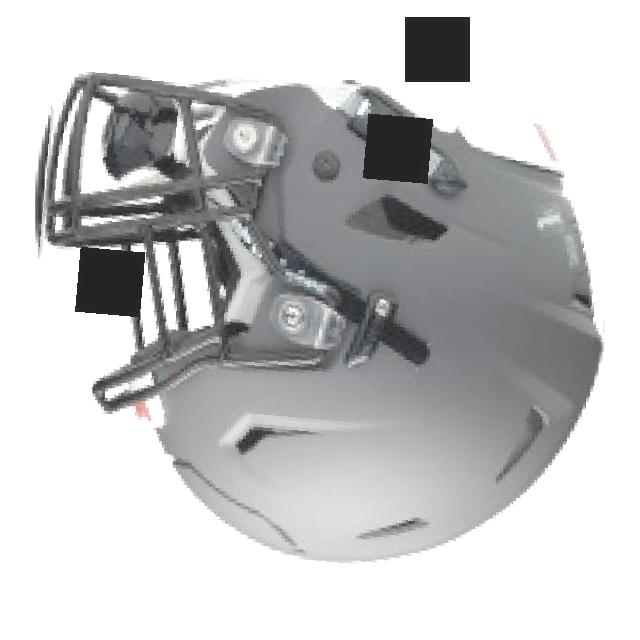helmet: (24, 70, 615, 575)
